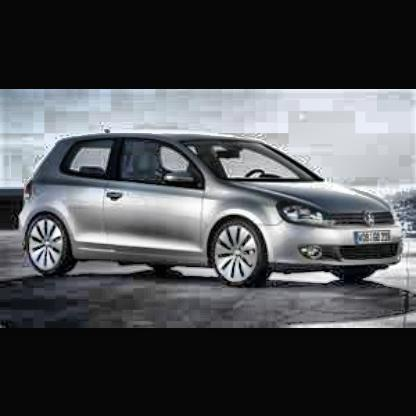Volkswagen Golf Hatchback 2012: (22, 133, 411, 295)
